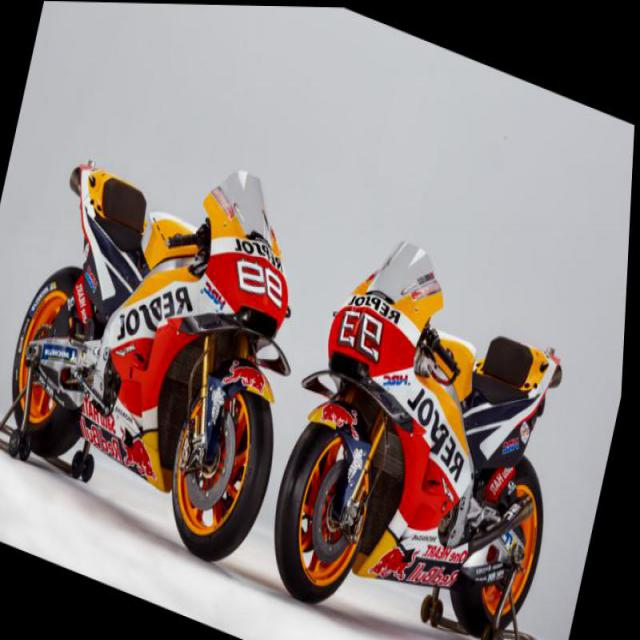HRC RCV 213: (0, 94, 334, 581), (262, 204, 598, 639)
